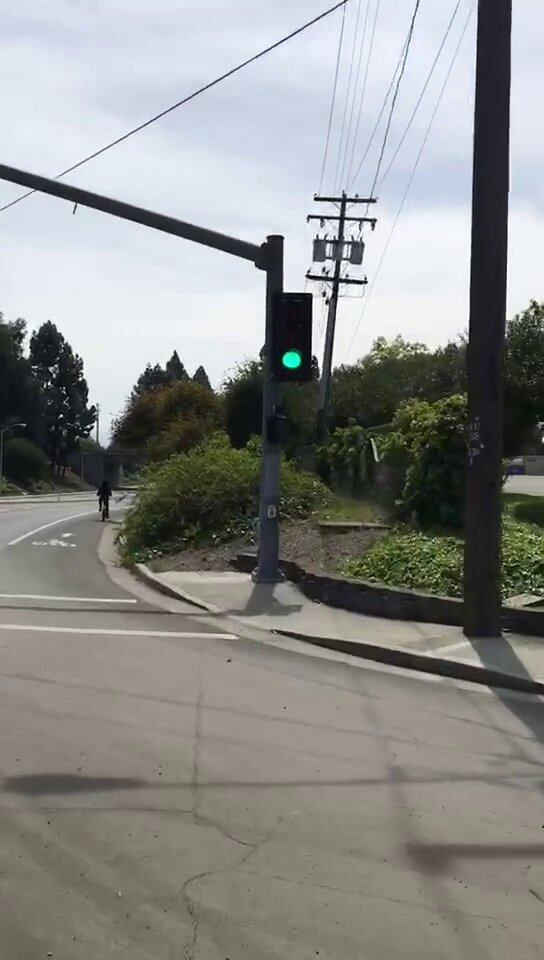green_light: (277, 296, 312, 378)
